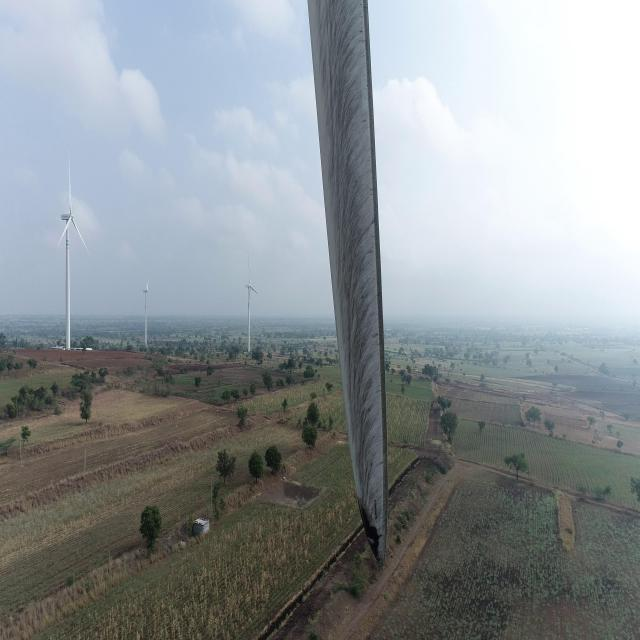Dirt: (306, 1, 388, 563)
Oil LEAKAGE: (356, 502, 385, 562)
Pin Hole: (376, 533, 383, 542)
